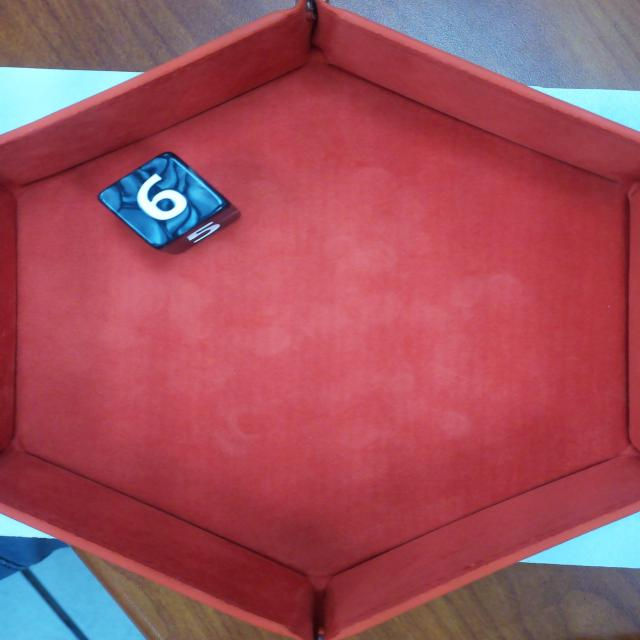dice: (97, 149, 234, 253)
